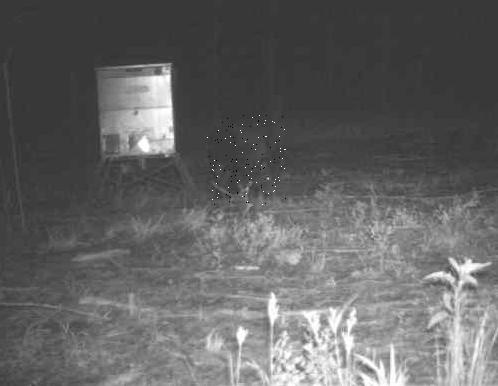Hog: (208, 115, 287, 205)
